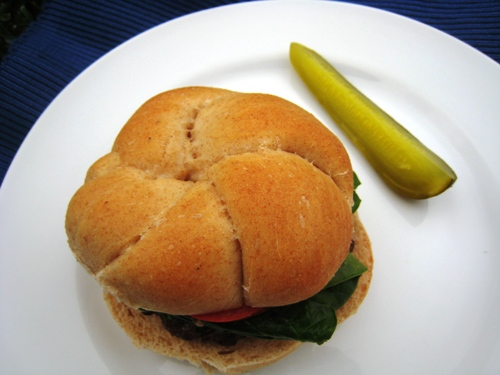hamburger_buns: (66, 75, 386, 369)
